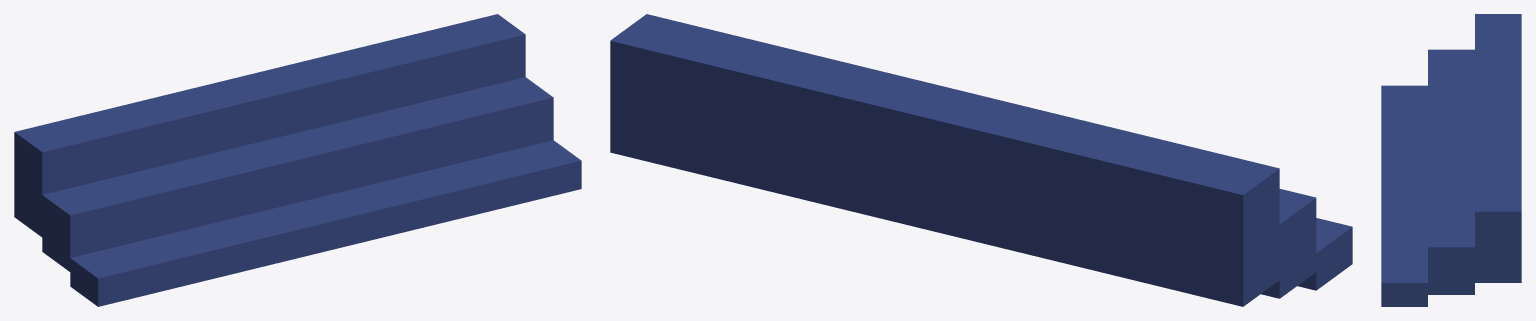
The model's file is bleachers.glb.
3 views of the same model, side by side, from view 1: azimuth 30°, elevation 25°; view 2: azimuth 150°, elevation 25°; view 3: azimuth 270°, elevation 25° (orthographic). The views are drawn at different scales.
Visible parts, largest first — view 1: bleachers; view 2: bleachers; view 3: bleachers.
Boxes of the visible parts, x1,y1,x2,y2 form: bleachers: [14, 14, 581, 306]; bleachers: [610, 14, 1352, 306]; bleachers: [1381, 14, 1521, 306].
Size of the model in its own units: 8 by 1.8 by 2.4.
